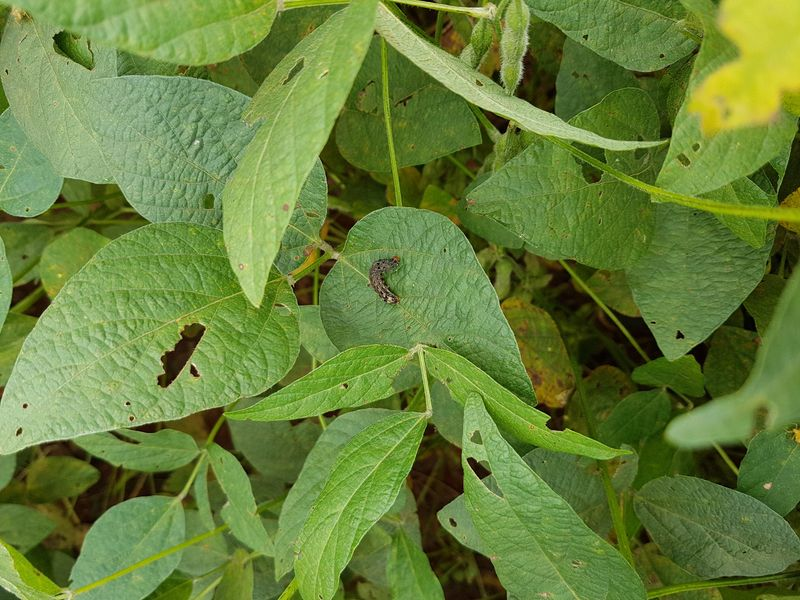Spodoptera_albula: (354, 249, 416, 314)
